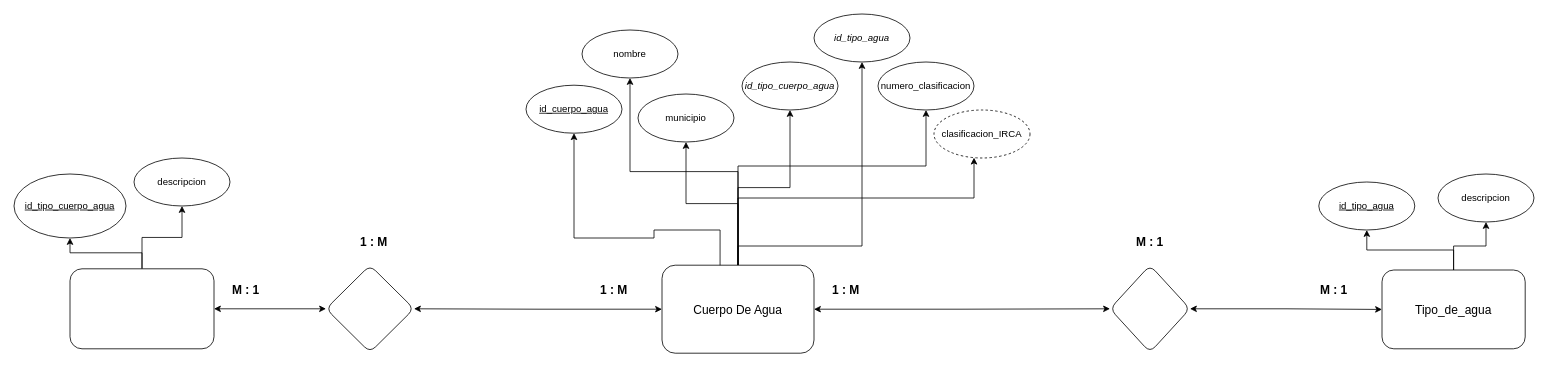
This 1548x367 diagram has some shape labels left out. The box of each missing label's shape, as (x1, y1, x2, y2) in pixels:
Pertence: (325, 264, 414, 352)
Pertenece: (1109, 264, 1190, 352)
Tipo_cuerpo_agua: (69, 268, 214, 349)
